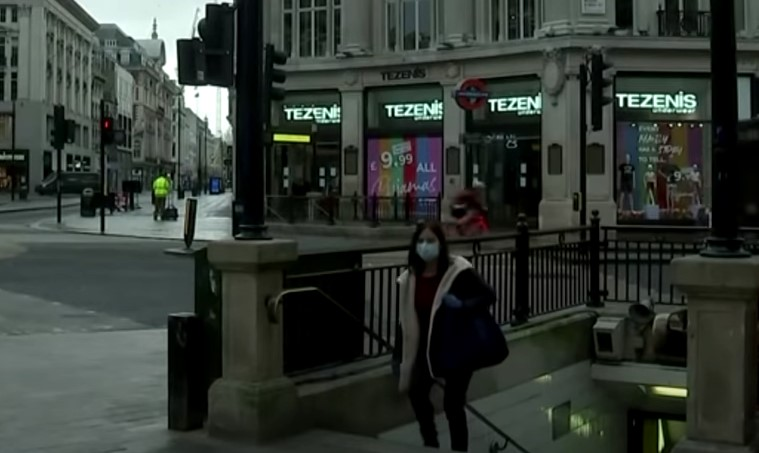face_with_mask: (410, 219, 446, 269)
